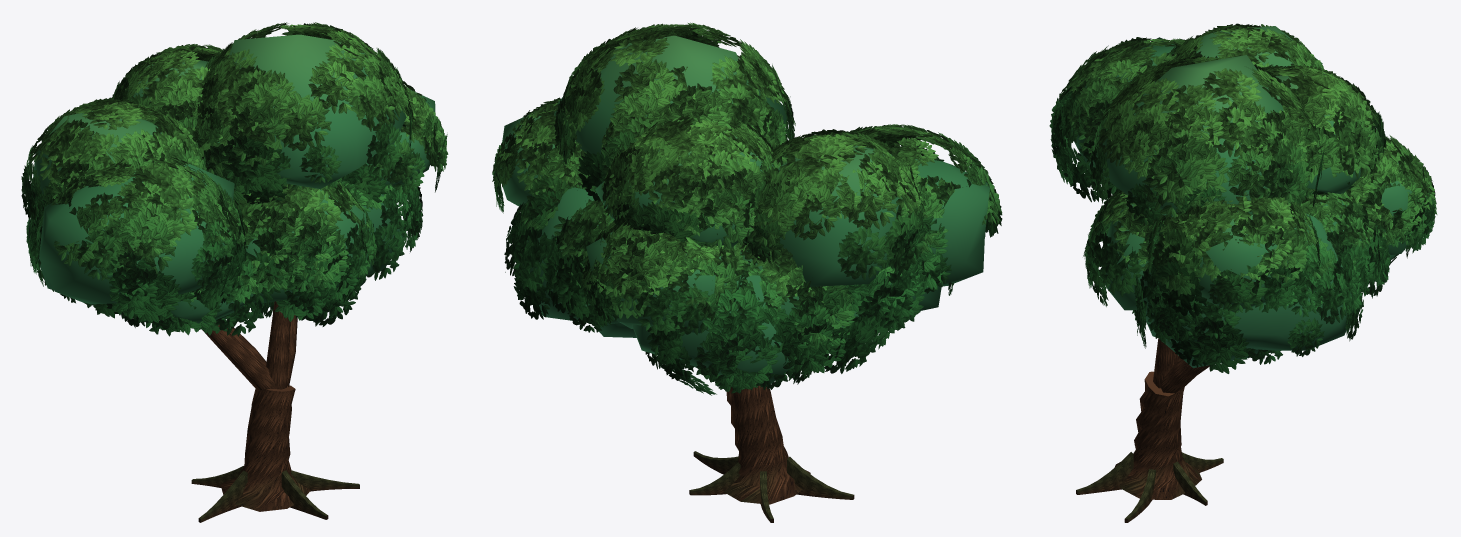
The model's file is old_tree_6.gltf.
3 views of the same model, side by side, from view 1: azimuth 30°, elevation 25°; view 2: azimuth 150°, elevation 25°; view 3: azimuth 270°, elevation 25° (orthographic). The views are drawn at different scales.
Parts seen in each view (by area): view 1: LeafCards, LeafMass, Bark; view 2: LeafCards, LeafMass, Bark; view 3: LeafCards, LeafMass, Bark.
Boxes of the visible parts, x1,y1,x2,y2 form: LeafCards: (21, 22, 448, 336); LeafMass: (32, 34, 435, 323); Bark: (191, 301, 359, 522); LeafCards: (492, 22, 1002, 395); LeafMass: (500, 35, 989, 384); Bark: (689, 385, 854, 522); LeafCards: (1049, 23, 1437, 373); LeafMass: (1072, 26, 1412, 368); Bark: (1076, 338, 1223, 522).
Size of what is drawn, in the model's own units: 14.66 by 13.93 by 11.38.
3 materials, 2 textured.
